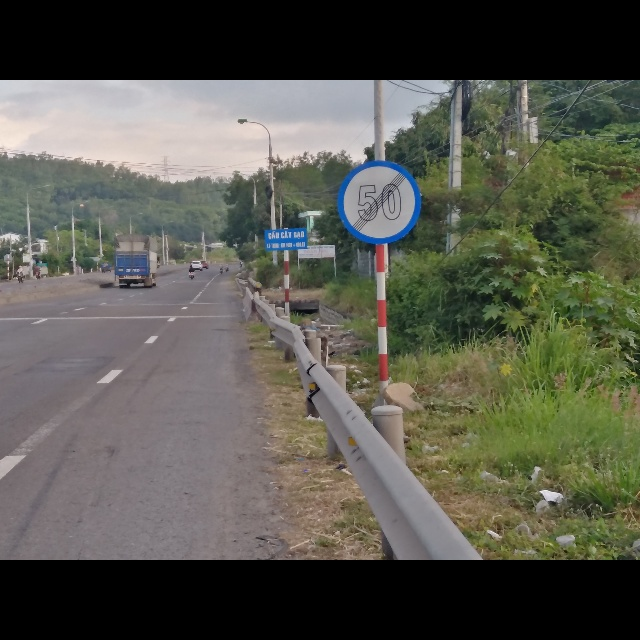Hết hạn chế tốc độ tối đa 50km/h: (335, 156, 422, 244)
